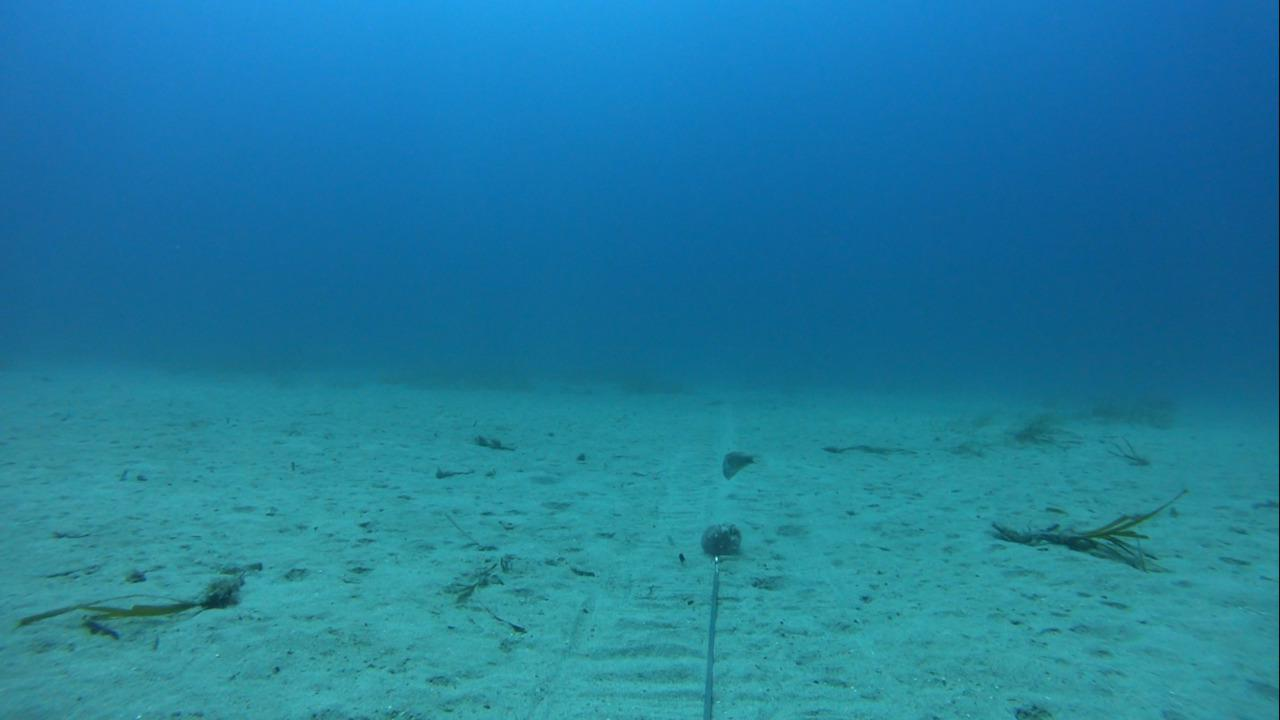raor: (710, 438, 763, 486)
